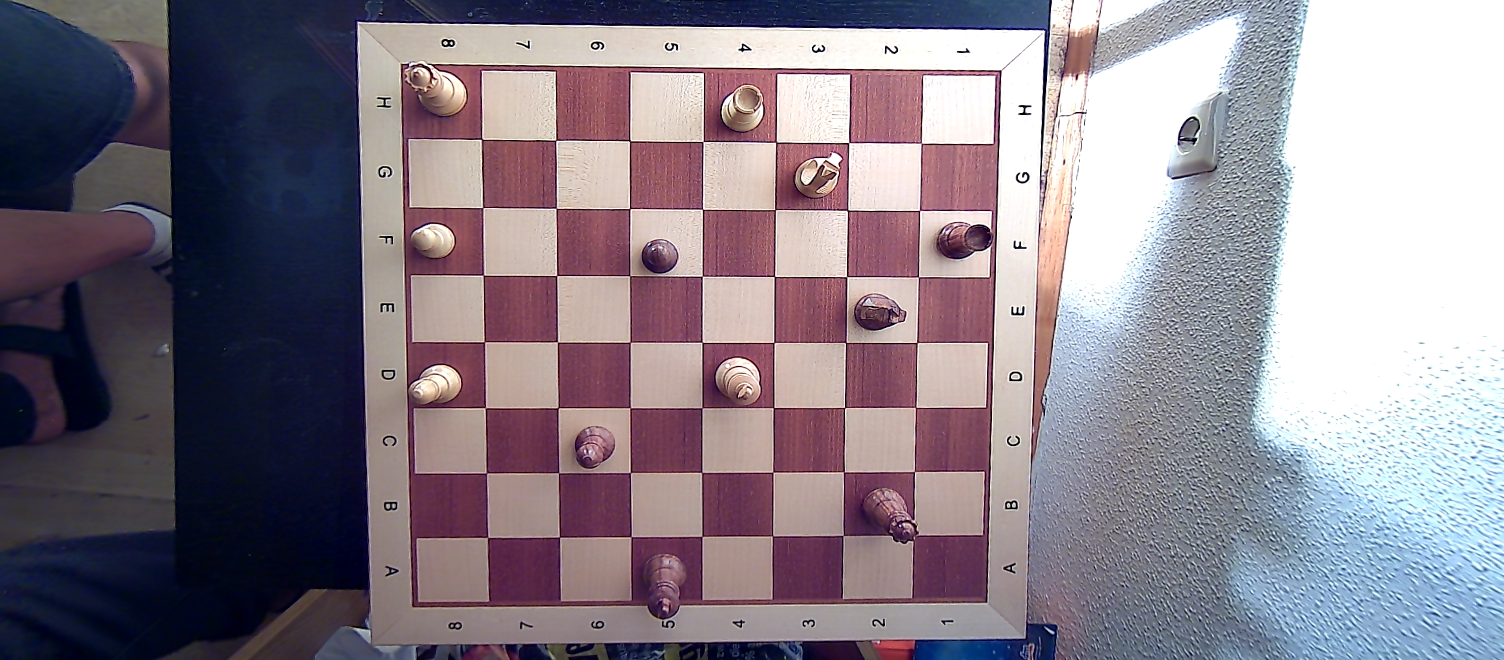black-bishop: (571, 421, 618, 472)
black-king: (637, 546, 692, 619)
black-knight: (848, 287, 911, 336)
black-pawn: (638, 236, 681, 276)
black-queen: (863, 484, 918, 546)
black-rook: (933, 218, 999, 265)
white-bishop: (403, 359, 464, 408)
white-king: (710, 352, 763, 407)
white-knight: (791, 150, 850, 201)
white-pawn: (409, 220, 454, 264)
white-queen: (402, 59, 468, 116)
white-rook: (717, 80, 769, 136)
